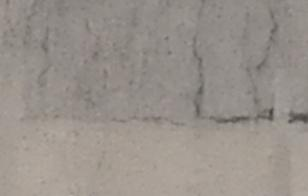termicas: (106, 102, 308, 140), (238, 9, 296, 117), (180, 28, 224, 121)
